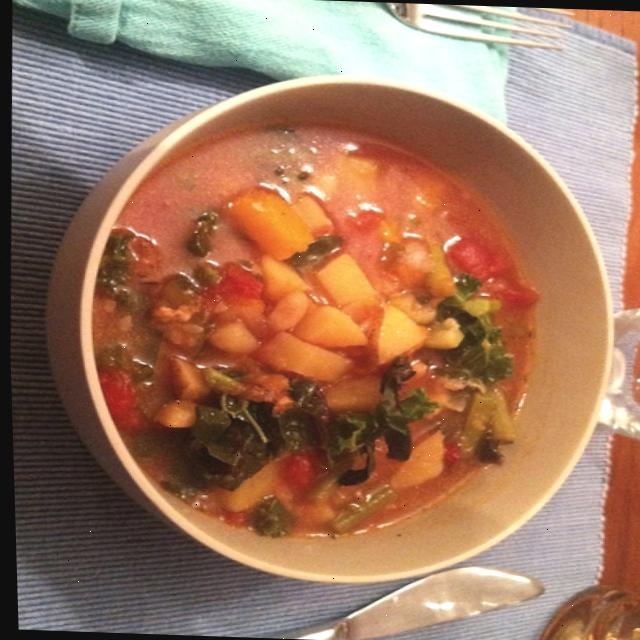汤锅炖物: (40, 26, 640, 633)
